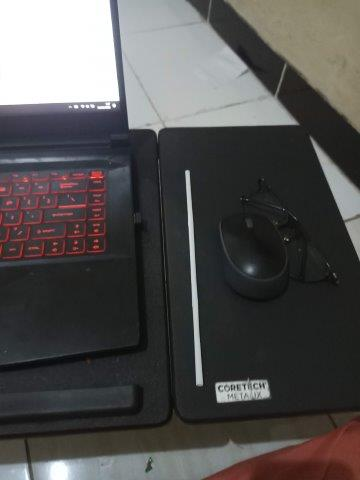sedotan: (184, 170, 203, 385)
